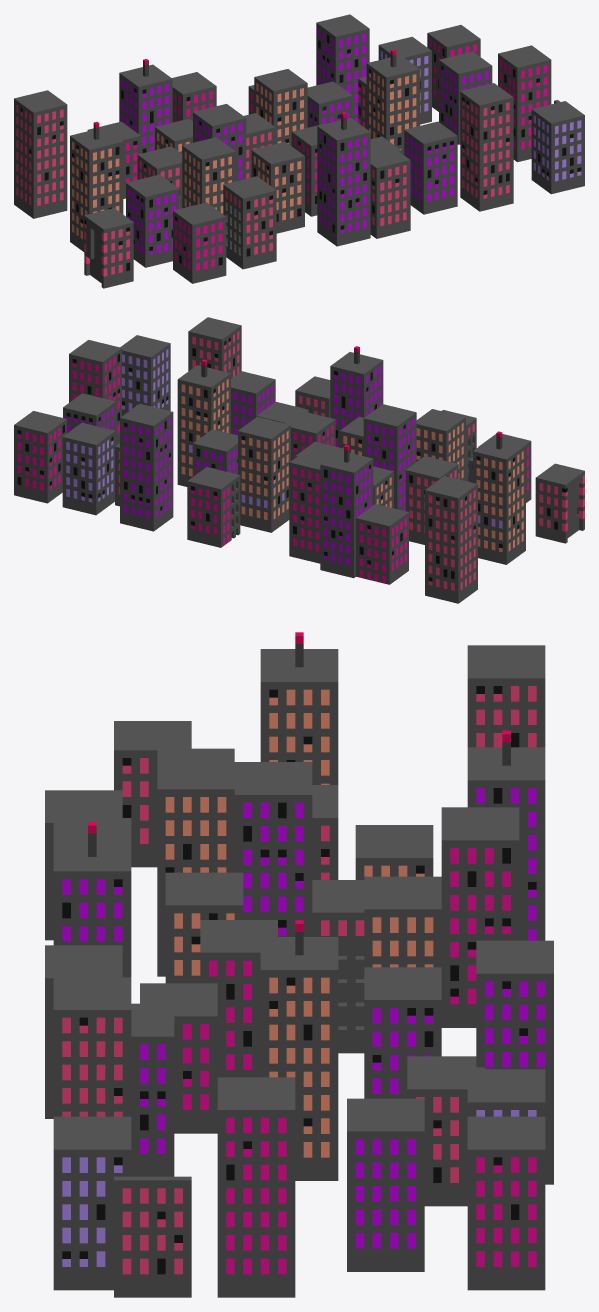
The model's file is cityPink.gltf.
The picture shows the model from 3 angles, top to bottom: view 1: azimuth 30°, elevation 25°; view 2: azimuth 150°, elevation 25°; view 3: azimuth 270°, elevation 25°; orthographic projection. The views are drawn at different scales.
Parts seen in each view (by area): view 1: default; view 2: default; view 3: default.
Part boxes in pixels (x1=…): default: x1=14, y1=14, x2=584, y2=288; default: x1=14, y1=317, x2=584, y2=603; default: x1=45, y1=632, x2=553, y2=1297.
Size of the model in its own units: 3.2 by 0.7874 by 1.5.
1 material, 1 textured.
